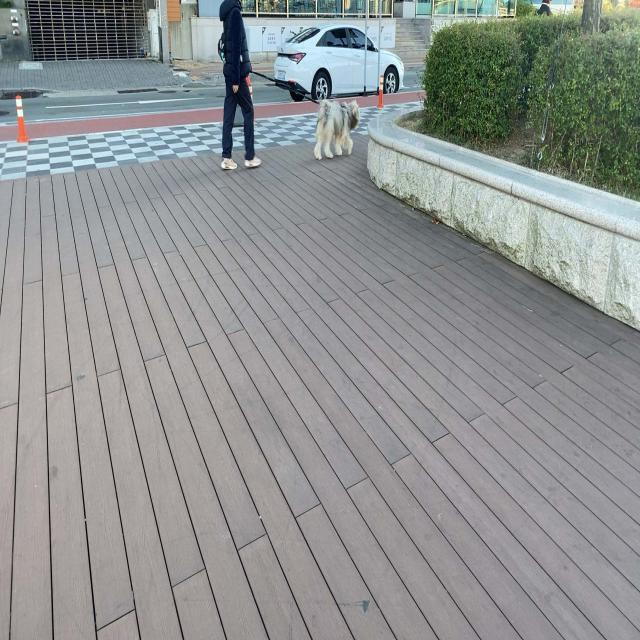Leashed_Dog: (237, 71, 360, 160)
